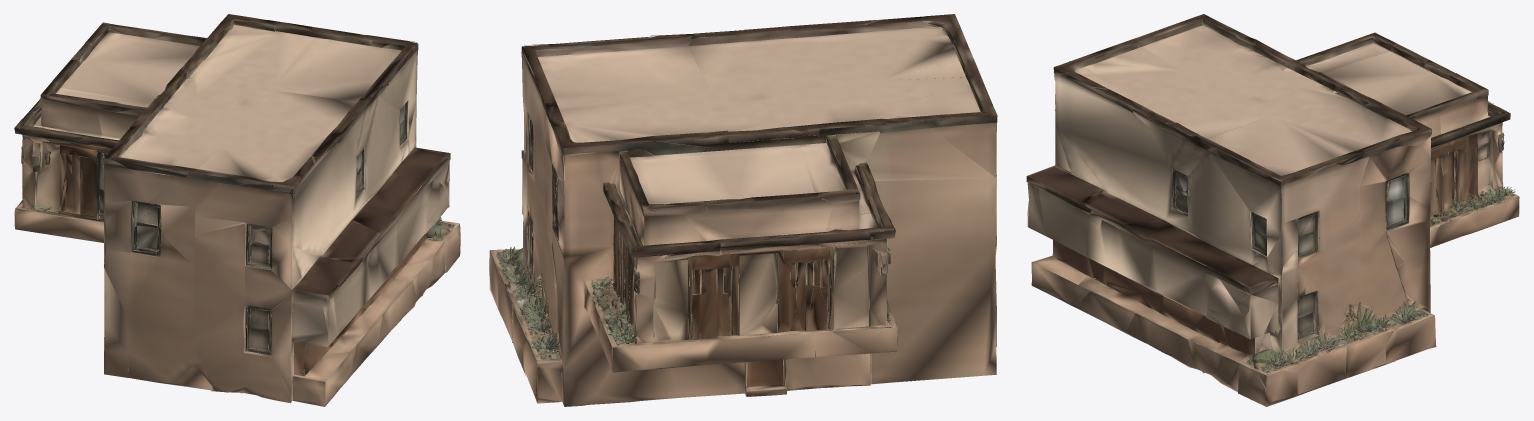
Rendered from home.glb.
3 renders of one model, left to right at view 1: azimuth 30°, elevation 25°; view 2: azimuth 150°, elevation 25°; view 3: azimuth 270°, elevation 25°, orthographic. The views are drawn at different scales.
Parts seen in each view (by area): view 1: LO.001; view 2: LO.001; view 3: LO.001.
Part boxes in pixels (bbox=[...]): LO.001: bbox=[14, 14, 460, 406]; LO.001: bbox=[489, 14, 997, 406]; LO.001: bbox=[1026, 14, 1519, 406].
Size of the model in its own units: 2.23 by 1.18 by 2.5.
1 material, 1 textured.
